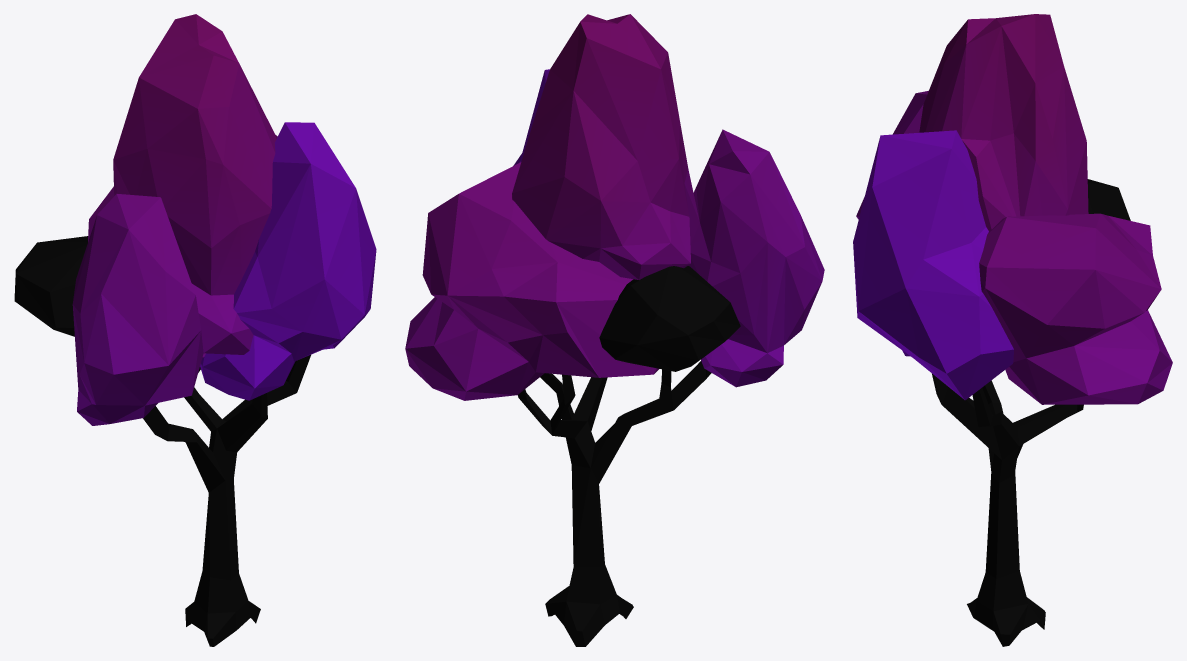
Rendered from SM_Env_Tree_Round_03.glb.
3 views of the same model, side by side, from view 1: azimuth 30°, elevation 25°; view 2: azimuth 150°, elevation 25°; view 3: azimuth 270°, elevation 25° (orthographic).
Parts seen in each view (by area): view 1: SM_Env_Tree_Round_03; view 2: SM_Env_Tree_Round_03; view 3: SM_Env_Tree_Round_03.
Part boxes in pixels (x1,y1,x2,y2): SM_Env_Tree_Round_03: (14, 14, 376, 646); SM_Env_Tree_Round_03: (405, 14, 824, 646); SM_Env_Tree_Round_03: (853, 14, 1172, 646).
Bounding box in the file's own units: 4.43 × 8.27 × 3.86.
